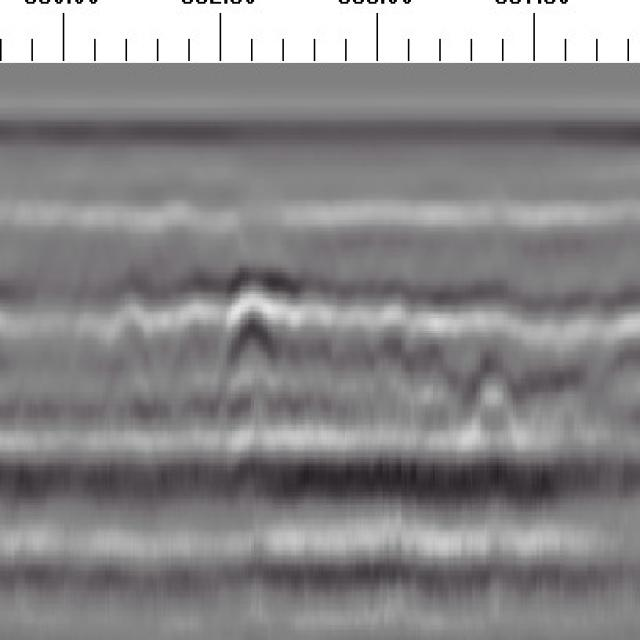loose: (178, 245, 301, 360)
